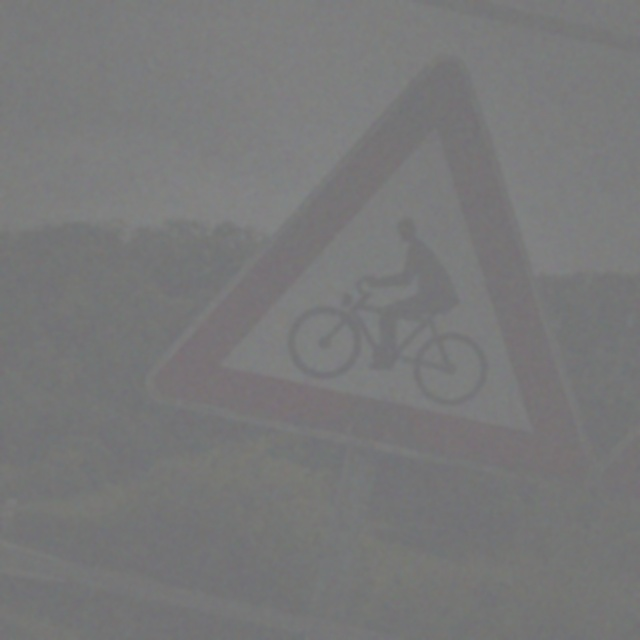Cycle_Crossing: (158, 5, 639, 498)
